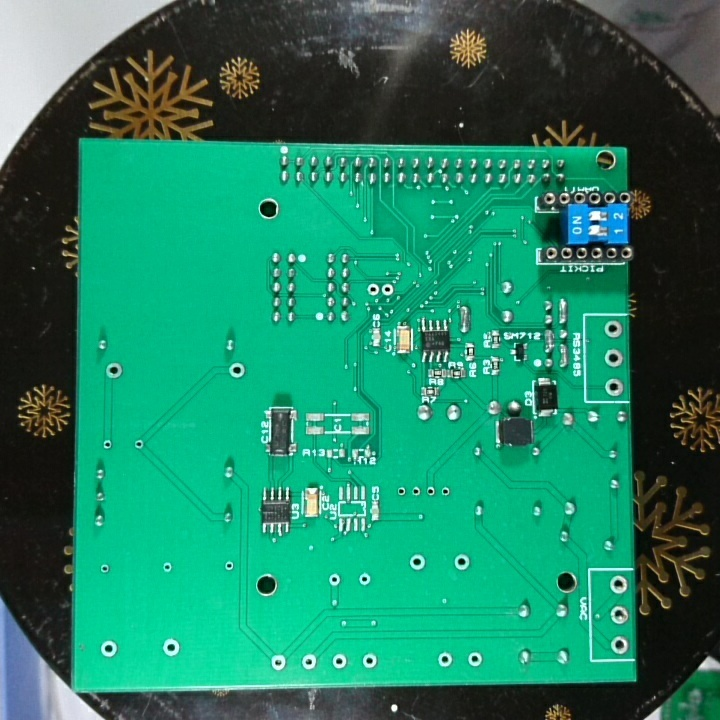F: (602, 346, 625, 370), (608, 603, 631, 627), (159, 636, 182, 660), (602, 375, 625, 398), (606, 573, 629, 596), (601, 318, 624, 340), (608, 634, 631, 655), (407, 551, 428, 574), (451, 551, 472, 572), (331, 650, 351, 672), (268, 651, 288, 673), (98, 637, 118, 659), (226, 360, 246, 381), (103, 360, 123, 380), (299, 652, 319, 672), (436, 649, 455, 670), (465, 650, 485, 669), (360, 651, 379, 671), (380, 278, 397, 300), (325, 571, 345, 589), (356, 570, 373, 588), (365, 280, 380, 300), (159, 558, 174, 577), (97, 560, 112, 578), (222, 557, 237, 574), (100, 436, 115, 453), (423, 483, 438, 499), (131, 437, 145, 453), (438, 484, 453, 498), (395, 483, 408, 499), (409, 483, 422, 498)
P: (457, 302, 473, 335), (556, 293, 570, 326), (542, 326, 557, 355), (557, 341, 569, 371)
